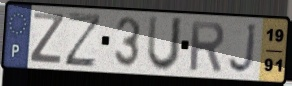3: (114, 15, 142, 70)
J: (227, 22, 259, 76)
R: (188, 19, 227, 73)
U: (145, 14, 185, 74)
Z: (63, 11, 104, 69), (28, 10, 66, 66)
